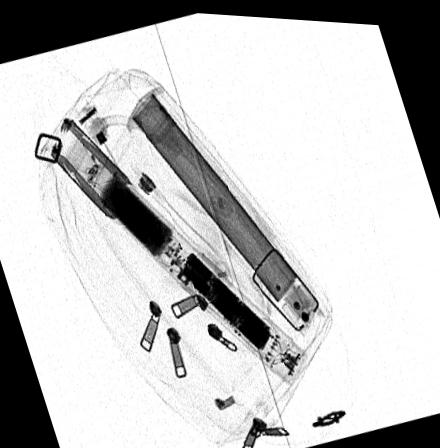Baton: (48, 117, 306, 380)
